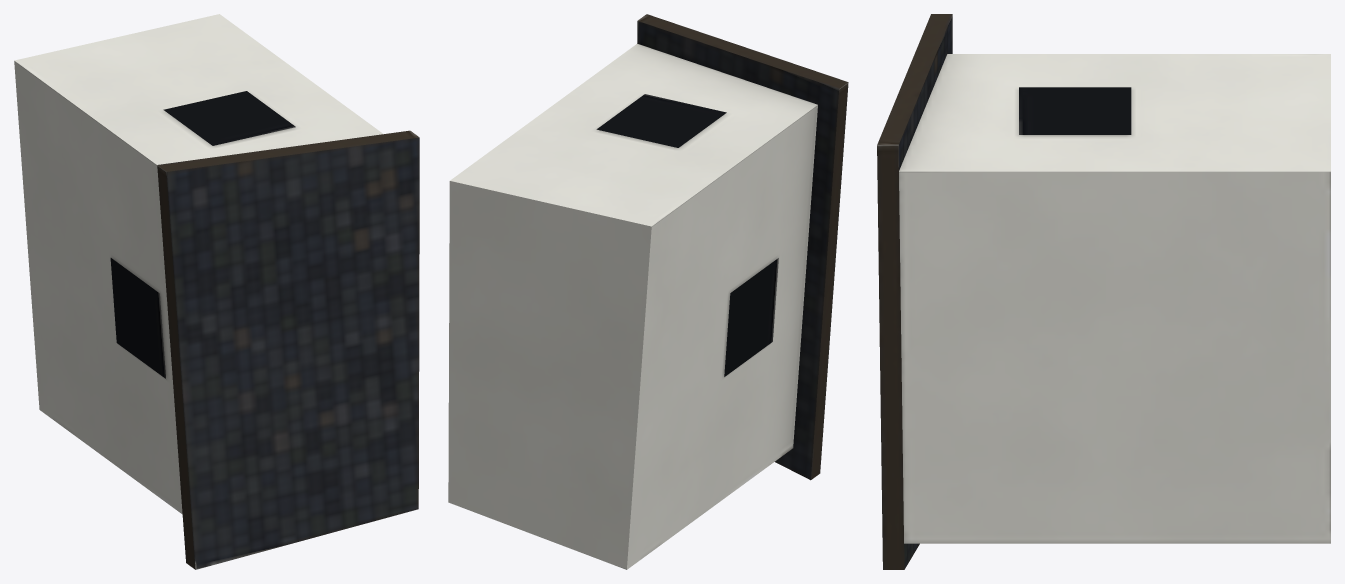
The model's file is house_b0479.obj.
3 renders of one model, left to right at view 1: azimuth 30°, elevation 25°; view 2: azimuth 150°, elevation 25°; view 3: azimuth 270°, elevation 25°, orthographic. The views are drawn at different scales.
Visible parts, largest first — view 1: house_b0479; view 2: house_b0479; view 3: house_b0479.
Boxes of the visible parts, x1,y1,x2,y2 form: house_b0479: (14, 14, 419, 569); house_b0479: (448, 14, 848, 569); house_b0479: (877, 14, 1330, 569).
Bounding box in the file's own units: 3.37 × 5.65 × 5.07.
1 material, 1 textured.
